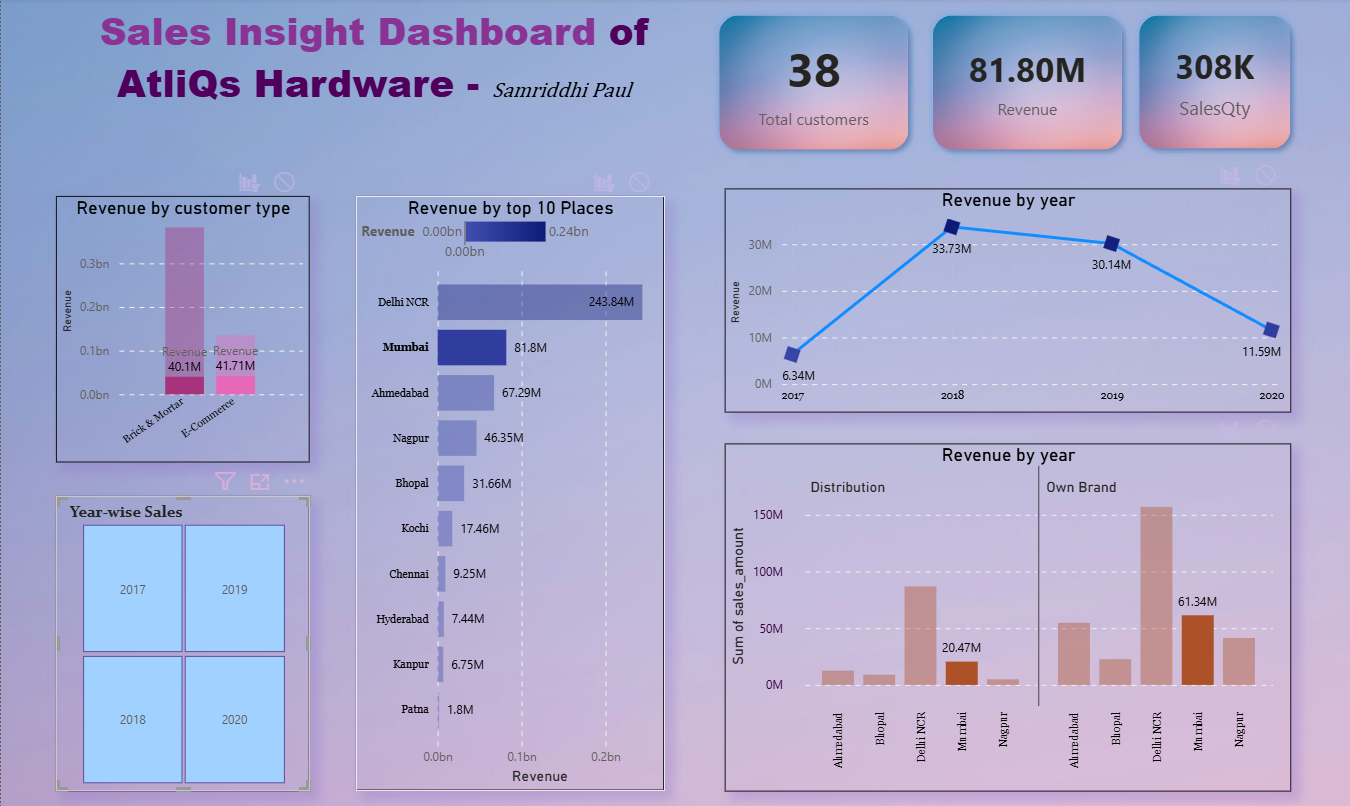

The page's visual inventory and layout, read from the dashboard file:
{"tool":"powerbi","page":{"name":"Page 2","canvas":[1350,850],"ordinal":1},"visuals":[{"type":"cardVisual","fields":{"Data":["BaseMeasures.SalesQty"]},"box":[1121,28,185,167],"z":1000},{"type":"clusteredColumnChart","fields":{"Category":["sales customers.customer_type"],"Y":["BaseMeasures.Revenue"]},"box":[55.6,225.6,253.3,266.7],"z":2000},{"type":"cardVisual","fields":{"Data":["BaseMeasures.Revenue"]},"box":[915,27,223,168],"z":2001},{"type":"slicer","fields":{"Values":["sales date.year"]},"box":[55.6,525.6,253.3,285.6],"z":2002},{"type":"clusteredBarChart","title":"Revenue by top 10 Places","fields":{"Y":["BaseMeasures.Revenue"],"Category":["sales markets.markets_name","sales customers.customer_type"]},"box":[355.6,225.6,307.8,594.4],"z":2003},{"type":"lineChart","title":"Revenue by year","fields":{"Y":["BaseMeasures.Revenue"],"Category":["sales date.cy_date.Variation.Date Hierarchy.Year"]},"box":[724,217,566,224],"z":2004},{"type":"columnChart","title":"Revenue by year","fields":{"Category":["sales markets.markets_name"],"Y":["Sum(sales transactions.sales_amount)"],"Rows":["sales products.product_type"]},"box":[724,472,566,348],"z":2005},{"type":"textbox","box":[57,28,633,169],"z":2006},{"type":"cardVisual","fields":{"Data":["Sum(sales transactions.sales_amount)"]},"box":[708,27,223,168],"z":2007}]}

Visuals, with their boxes on the page's 1350x850 design canvas (x1, y1, x2, y2). These are canvas units, not pixel positions in the 1350x806 screenshot, which may show the page scaled, cropped or inside an application window:
cardVisual - BaseMeasures.SalesQty: <box>1121,28,1306,195</box>
clusteredColumnChart - sales customers.customer_type x BaseMeasures.Revenue: <box>56,226,309,492</box>
cardVisual - BaseMeasures.Revenue: <box>915,27,1138,195</box>
slicer - sales date.year: <box>56,526,309,811</box>
"Revenue by top 10 Places" clusteredBarChart: <box>356,226,663,820</box>
"Revenue by year" lineChart: <box>724,217,1290,441</box>
"Revenue by year" columnChart: <box>724,472,1290,820</box>
textbox: <box>57,28,690,197</box>
cardVisual - Sum(sales transactions.sales_amount): <box>708,27,931,195</box>
